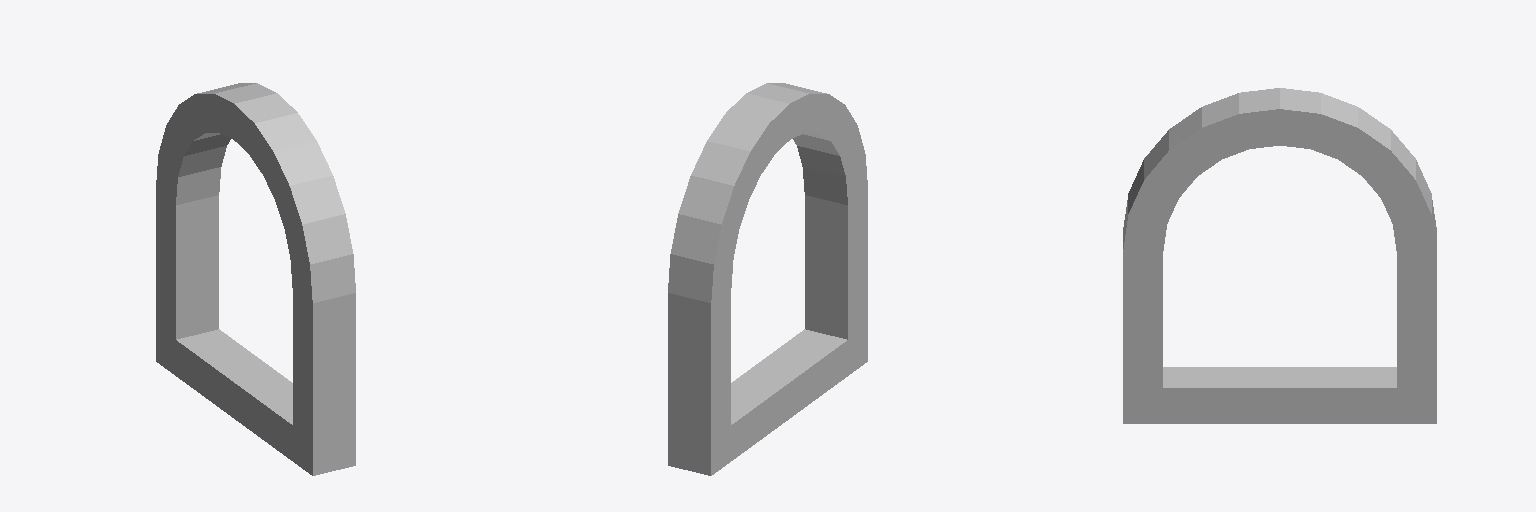
Rendered from detail_024.obj.
3 views of the same model, side by side, from view 1: azimuth 30°, elevation 25°; view 2: azimuth 150°, elevation 25°; view 3: azimuth 270°, elevation 25° (orthographic).
Parts seen in each view (by area): view 1: detail_024; view 2: detail_024; view 3: detail_024.
Part boxes in pixels (bbox=[...]): detail_024: bbox=[156, 83, 355, 475]; detail_024: bbox=[668, 83, 867, 475]; detail_024: bbox=[1123, 88, 1436, 423].
Bounding box in the file's own units: 0.05 × 0.3462 × 0.3125.